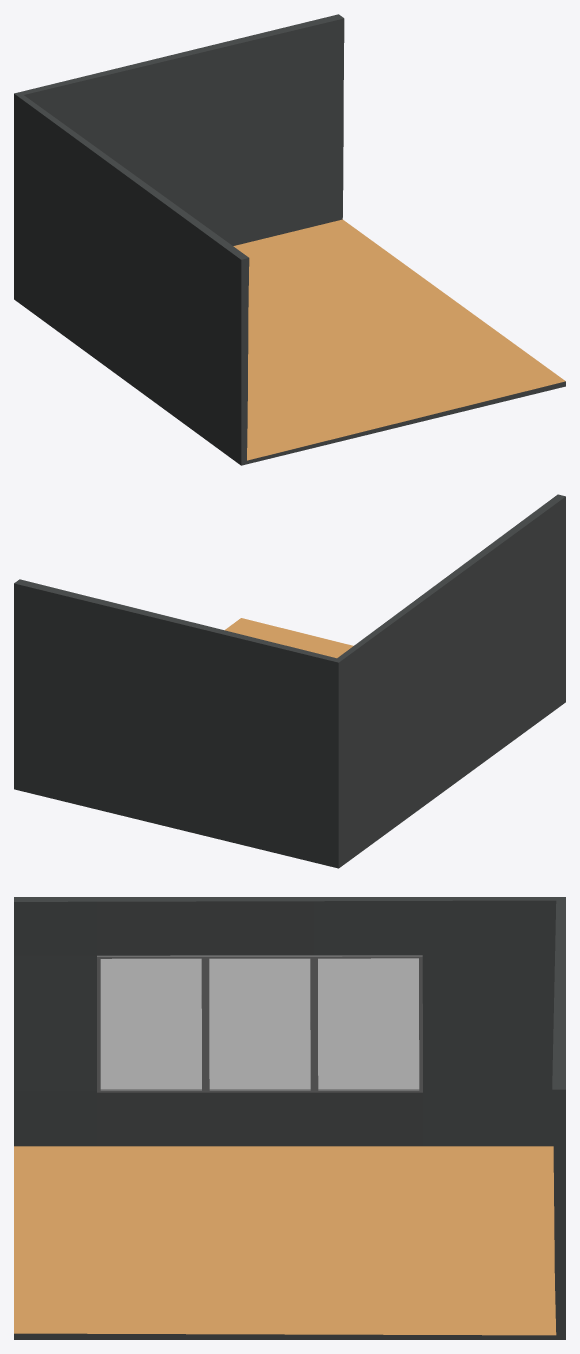
The model's file is Room.fbx.
3 views of the same model, one above another, from view 1: azimuth 30°, elevation 25°; view 2: azimuth 150°, elevation 25°; view 3: azimuth 270°, elevation 25° (orthographic). The views are drawn at different scales.
Visible parts, largest first — view 1: Room; view 2: Room; view 3: Room.
Boxes of the visible parts, <box> form: Room: <box>14,14,565,465</box>; Room: <box>14,494,565,868</box>; Room: <box>14,897,565,1339</box>.
Size of the model in its own units: 558 by 338 by 676.
